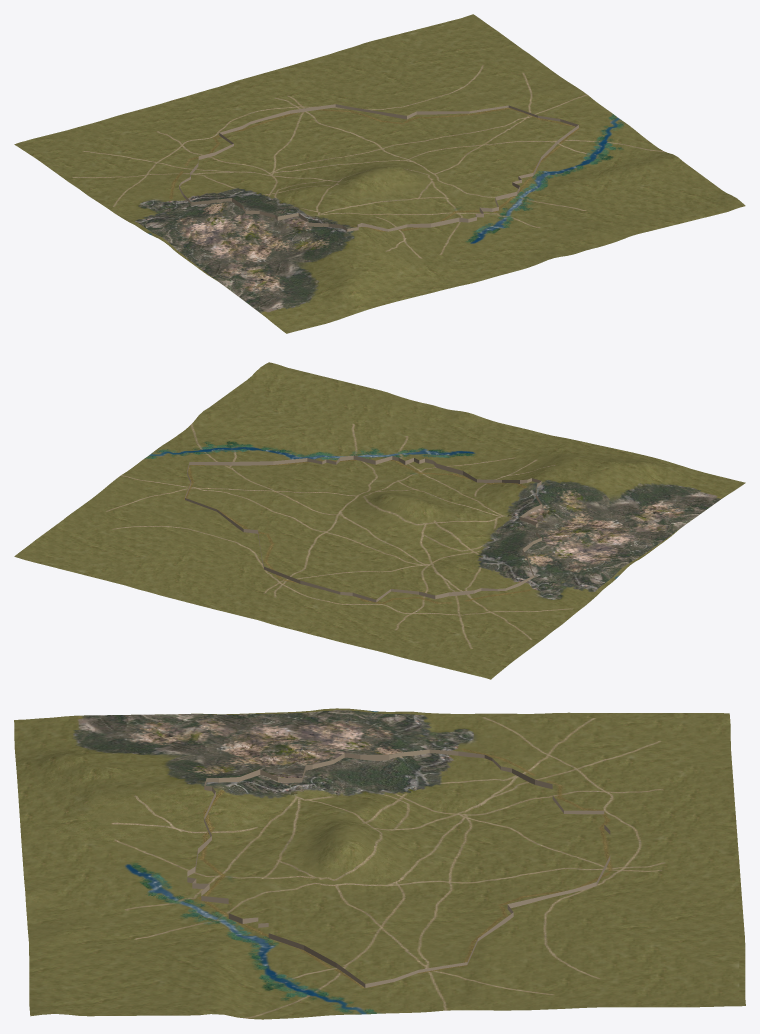
File: athensterrainWall.fbx
3 renders of one model, top to bottom at view 1: azimuth 30°, elevation 25°; view 2: azimuth 150°, elevation 25°; view 3: azimuth 270°, elevation 25°, orthographic. The views are drawn at different scales.
Visible parts, largest first — view 1: Google_Earth_Terrain, Group1; view 2: Google_Earth_Terrain, Group1; view 3: Google_Earth_Terrain, Group1.
Boxes of the visible parts, left/top/right/bottom form: Google_Earth_Terrain: left=14, top=14, right=745, bottom=333; Group1: left=179, top=104, right=578, bottom=231; Google_Earth_Terrain: left=14, top=362, right=745, bottom=679; Group1: left=185, top=455, right=542, bottom=602; Google_Earth_Terrain: left=14, top=708, right=745, bottom=1019; Group1: left=187, top=749, right=610, bottom=987.
Bounding box in the file's own units: 2704442 × 117426 × 2641948.
